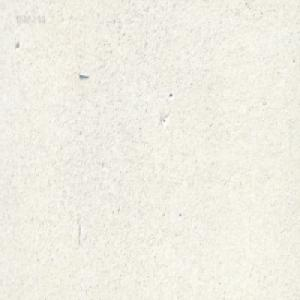Nail: (78, 71, 89, 77)
